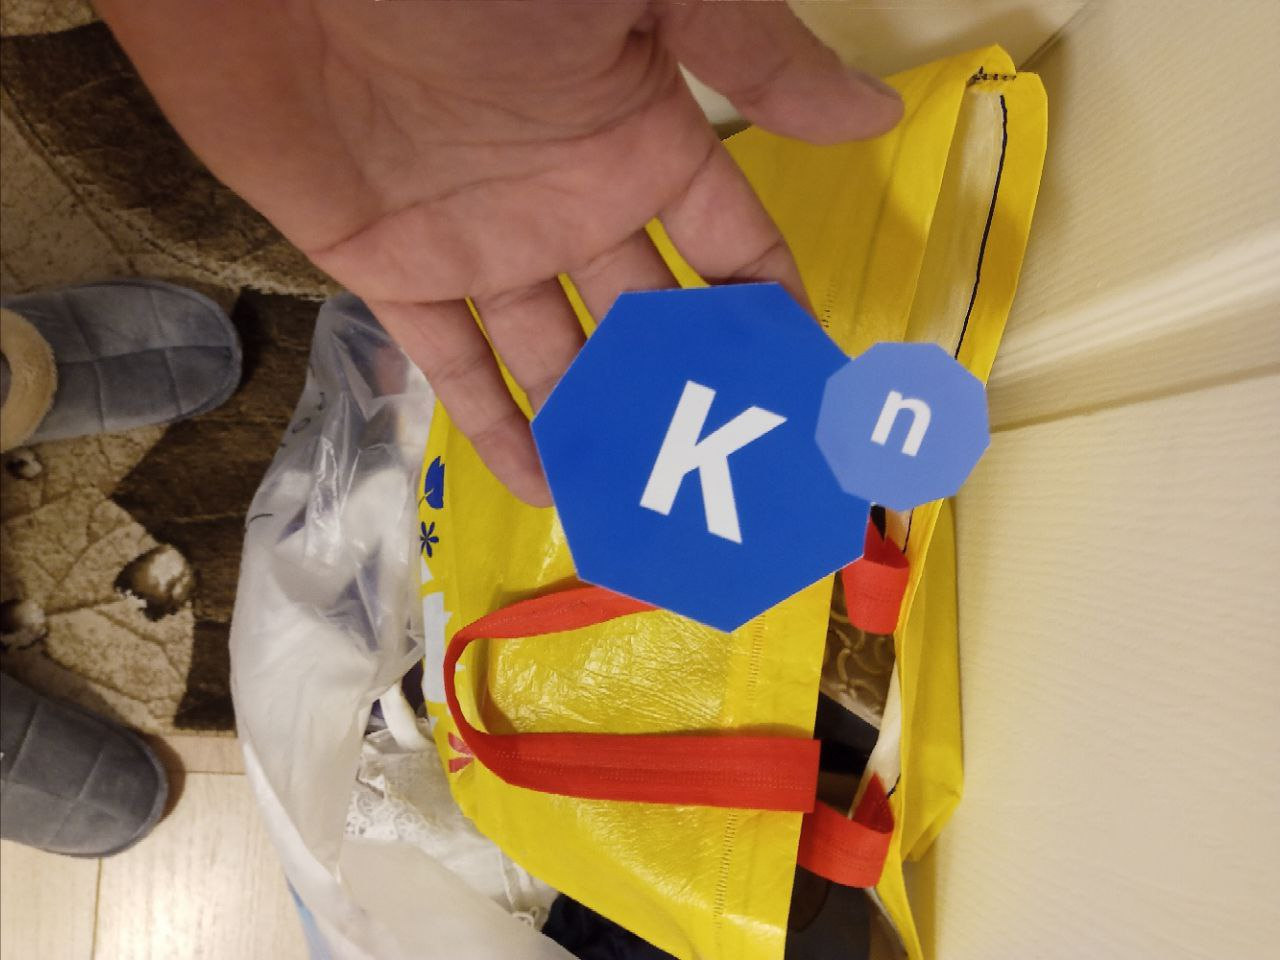knative: (531, 285, 992, 631)
